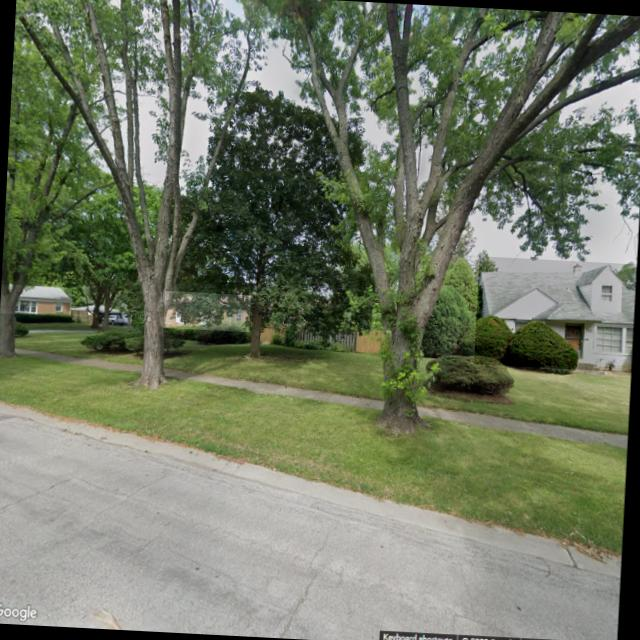House: (474, 257, 637, 373), (164, 290, 252, 332), (0, 284, 72, 316)
